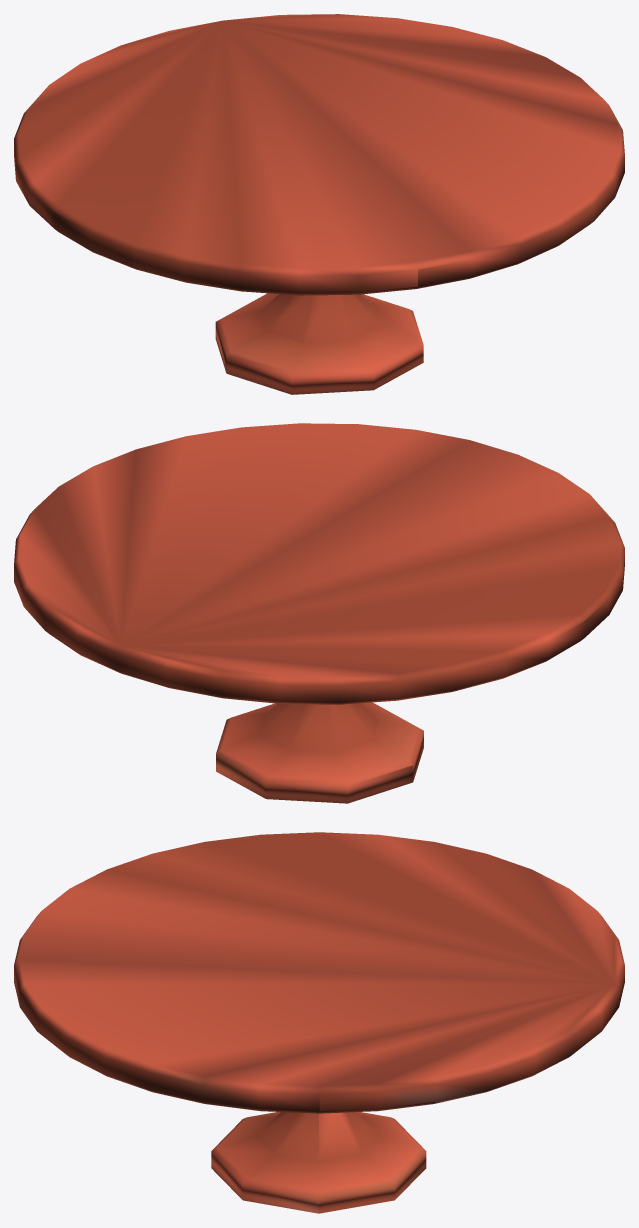
Rendered from table_01.fbx.
3 renders of one model, top to bottom at view 1: azimuth 30°, elevation 25°; view 2: azimuth 150°, elevation 25°; view 3: azimuth 270°, elevation 25°, orthographic.
Visible parts, largest first — view 1: Cylinder; view 2: Cylinder; view 3: Cylinder.
Part boxes in pixels (x1,y1,x2,y2): Cylinder: [14, 14, 624, 394]; Cylinder: [14, 423, 624, 803]; Cylinder: [14, 832, 624, 1213].
Bounding box in the file's own units: 170 × 64.18 × 170.
